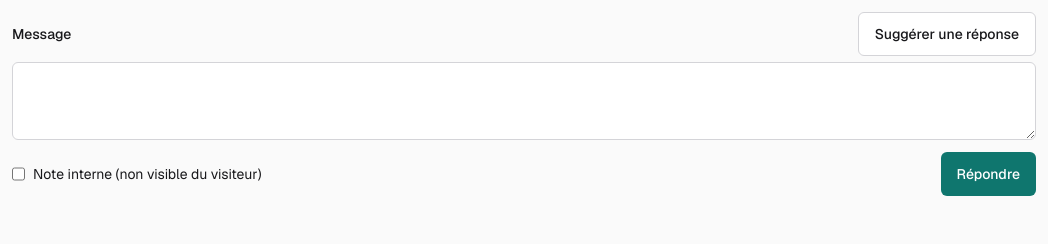
it: ReplyForm › insère la suggestion du copilote et affiche ses sources
This screenshot has width=1048, height=244.
Click the button "Suggérer une réponse": click(947, 34) [858, 12, 1036, 56]
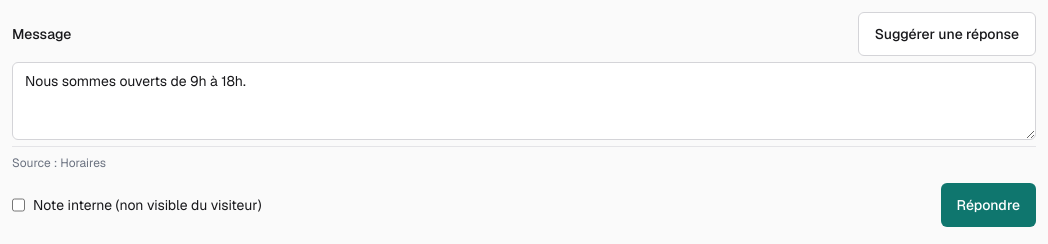
Result: the text box labelled "Message" holds "Nous sommes ouverts de 9h à 18h." at [12, 62, 1036, 140]
Result: the list item "Source : Horaires" is shown at [12, 155, 106, 171]
